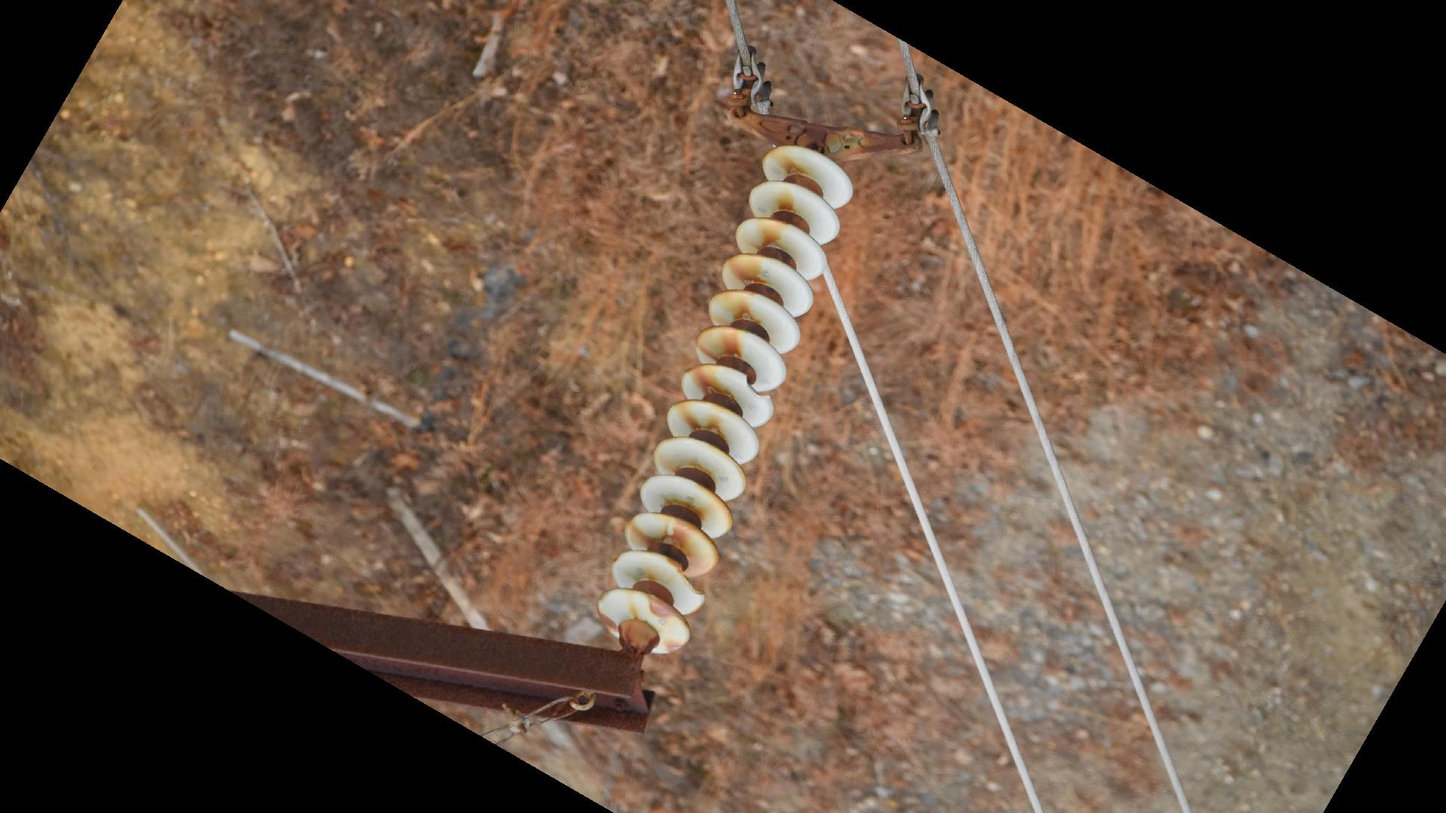insulator: (592, 141, 858, 661)
insulator_breakage: (734, 368, 779, 408), (673, 559, 709, 601)
